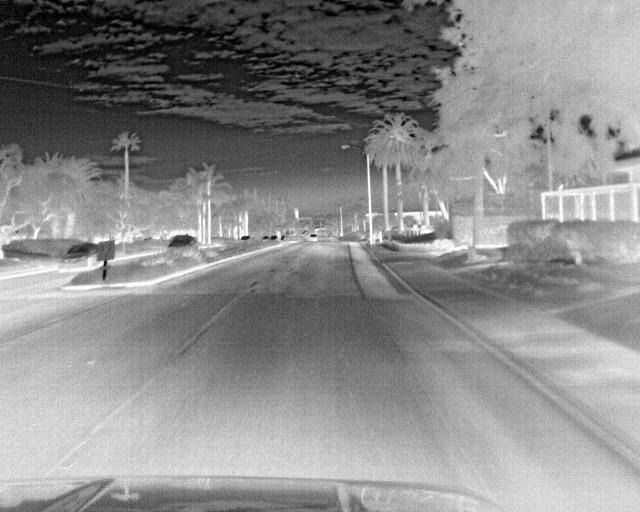car: (57, 243, 102, 273), (164, 233, 199, 259)
